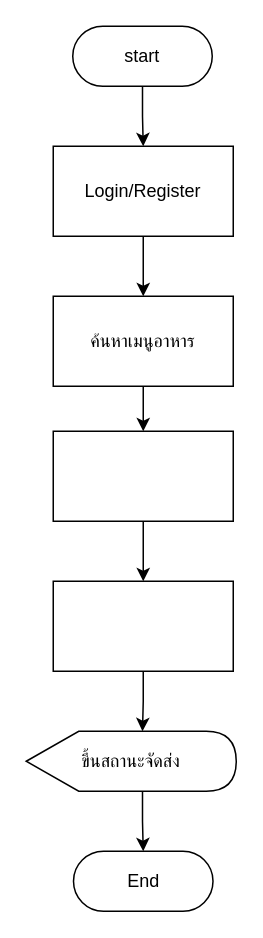
This 263x938 diagram has some shape labels left out. Each missing label, with the centre of its shape:
"กดสั่งอาหาร" goes at point (142, 475).
"ชำระเงิน" goes at point (142, 625).
